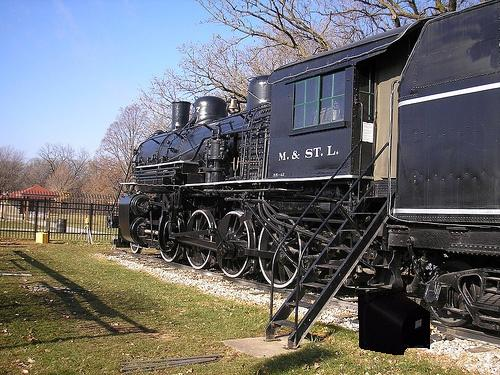tampered: (359, 287, 430, 355)
